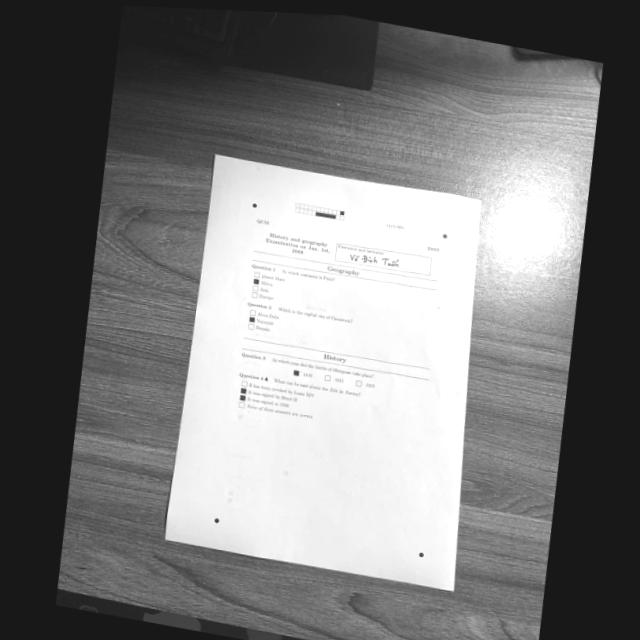Markers: (214, 517, 220, 524), (251, 203, 257, 209), (442, 233, 448, 239), (418, 552, 424, 558)
